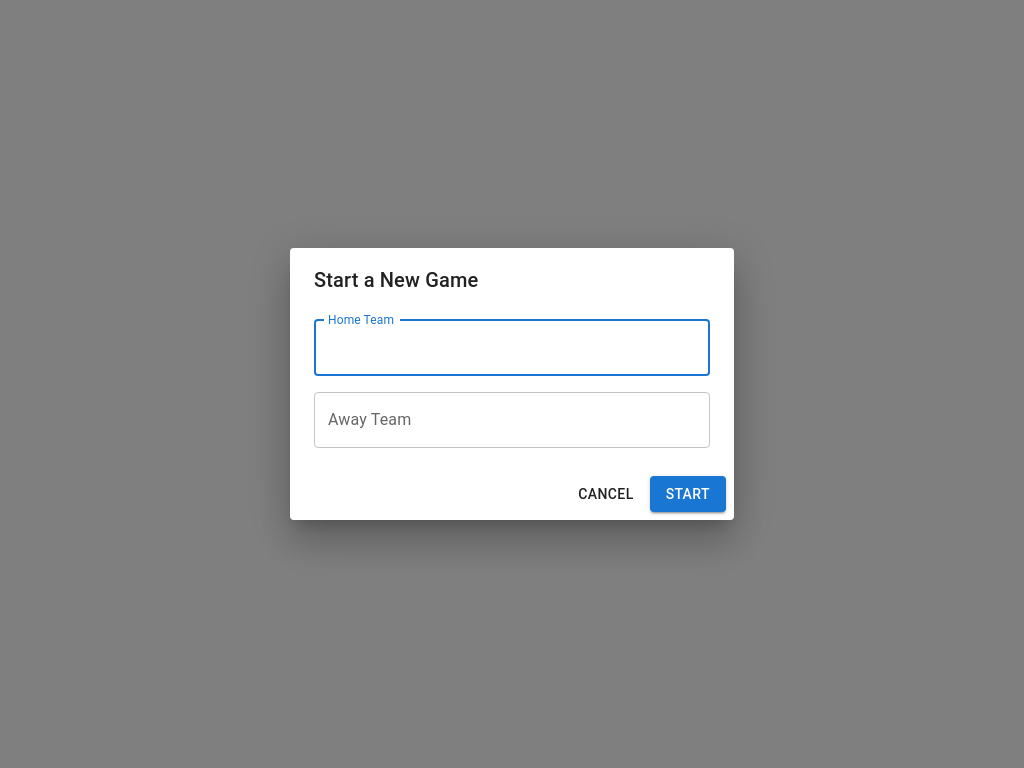
Test case: StartGameDialog › should show errors whe fields are empty and should not add game
Click the button "Start" at (688,494), box [650,476,726,512]
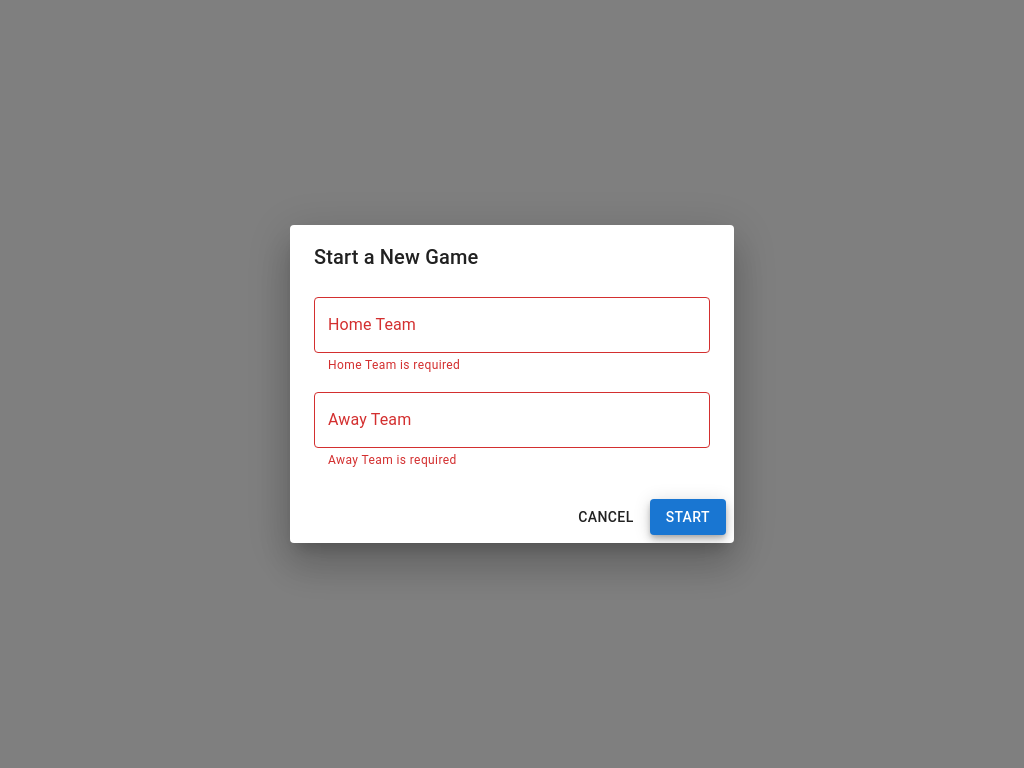
Check: the text "Home Team is required" is shown, box [328,358,460,372]
Check: the text "Away Team is required" is shown, box [328,453,457,467]
